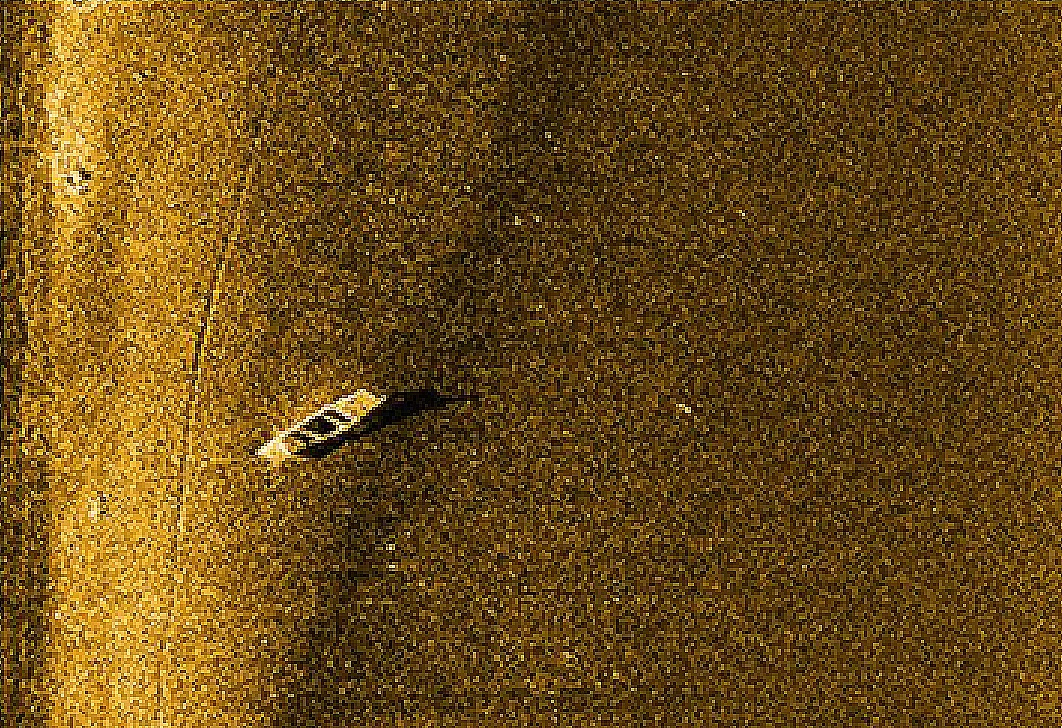ship: (253, 385, 390, 467)
